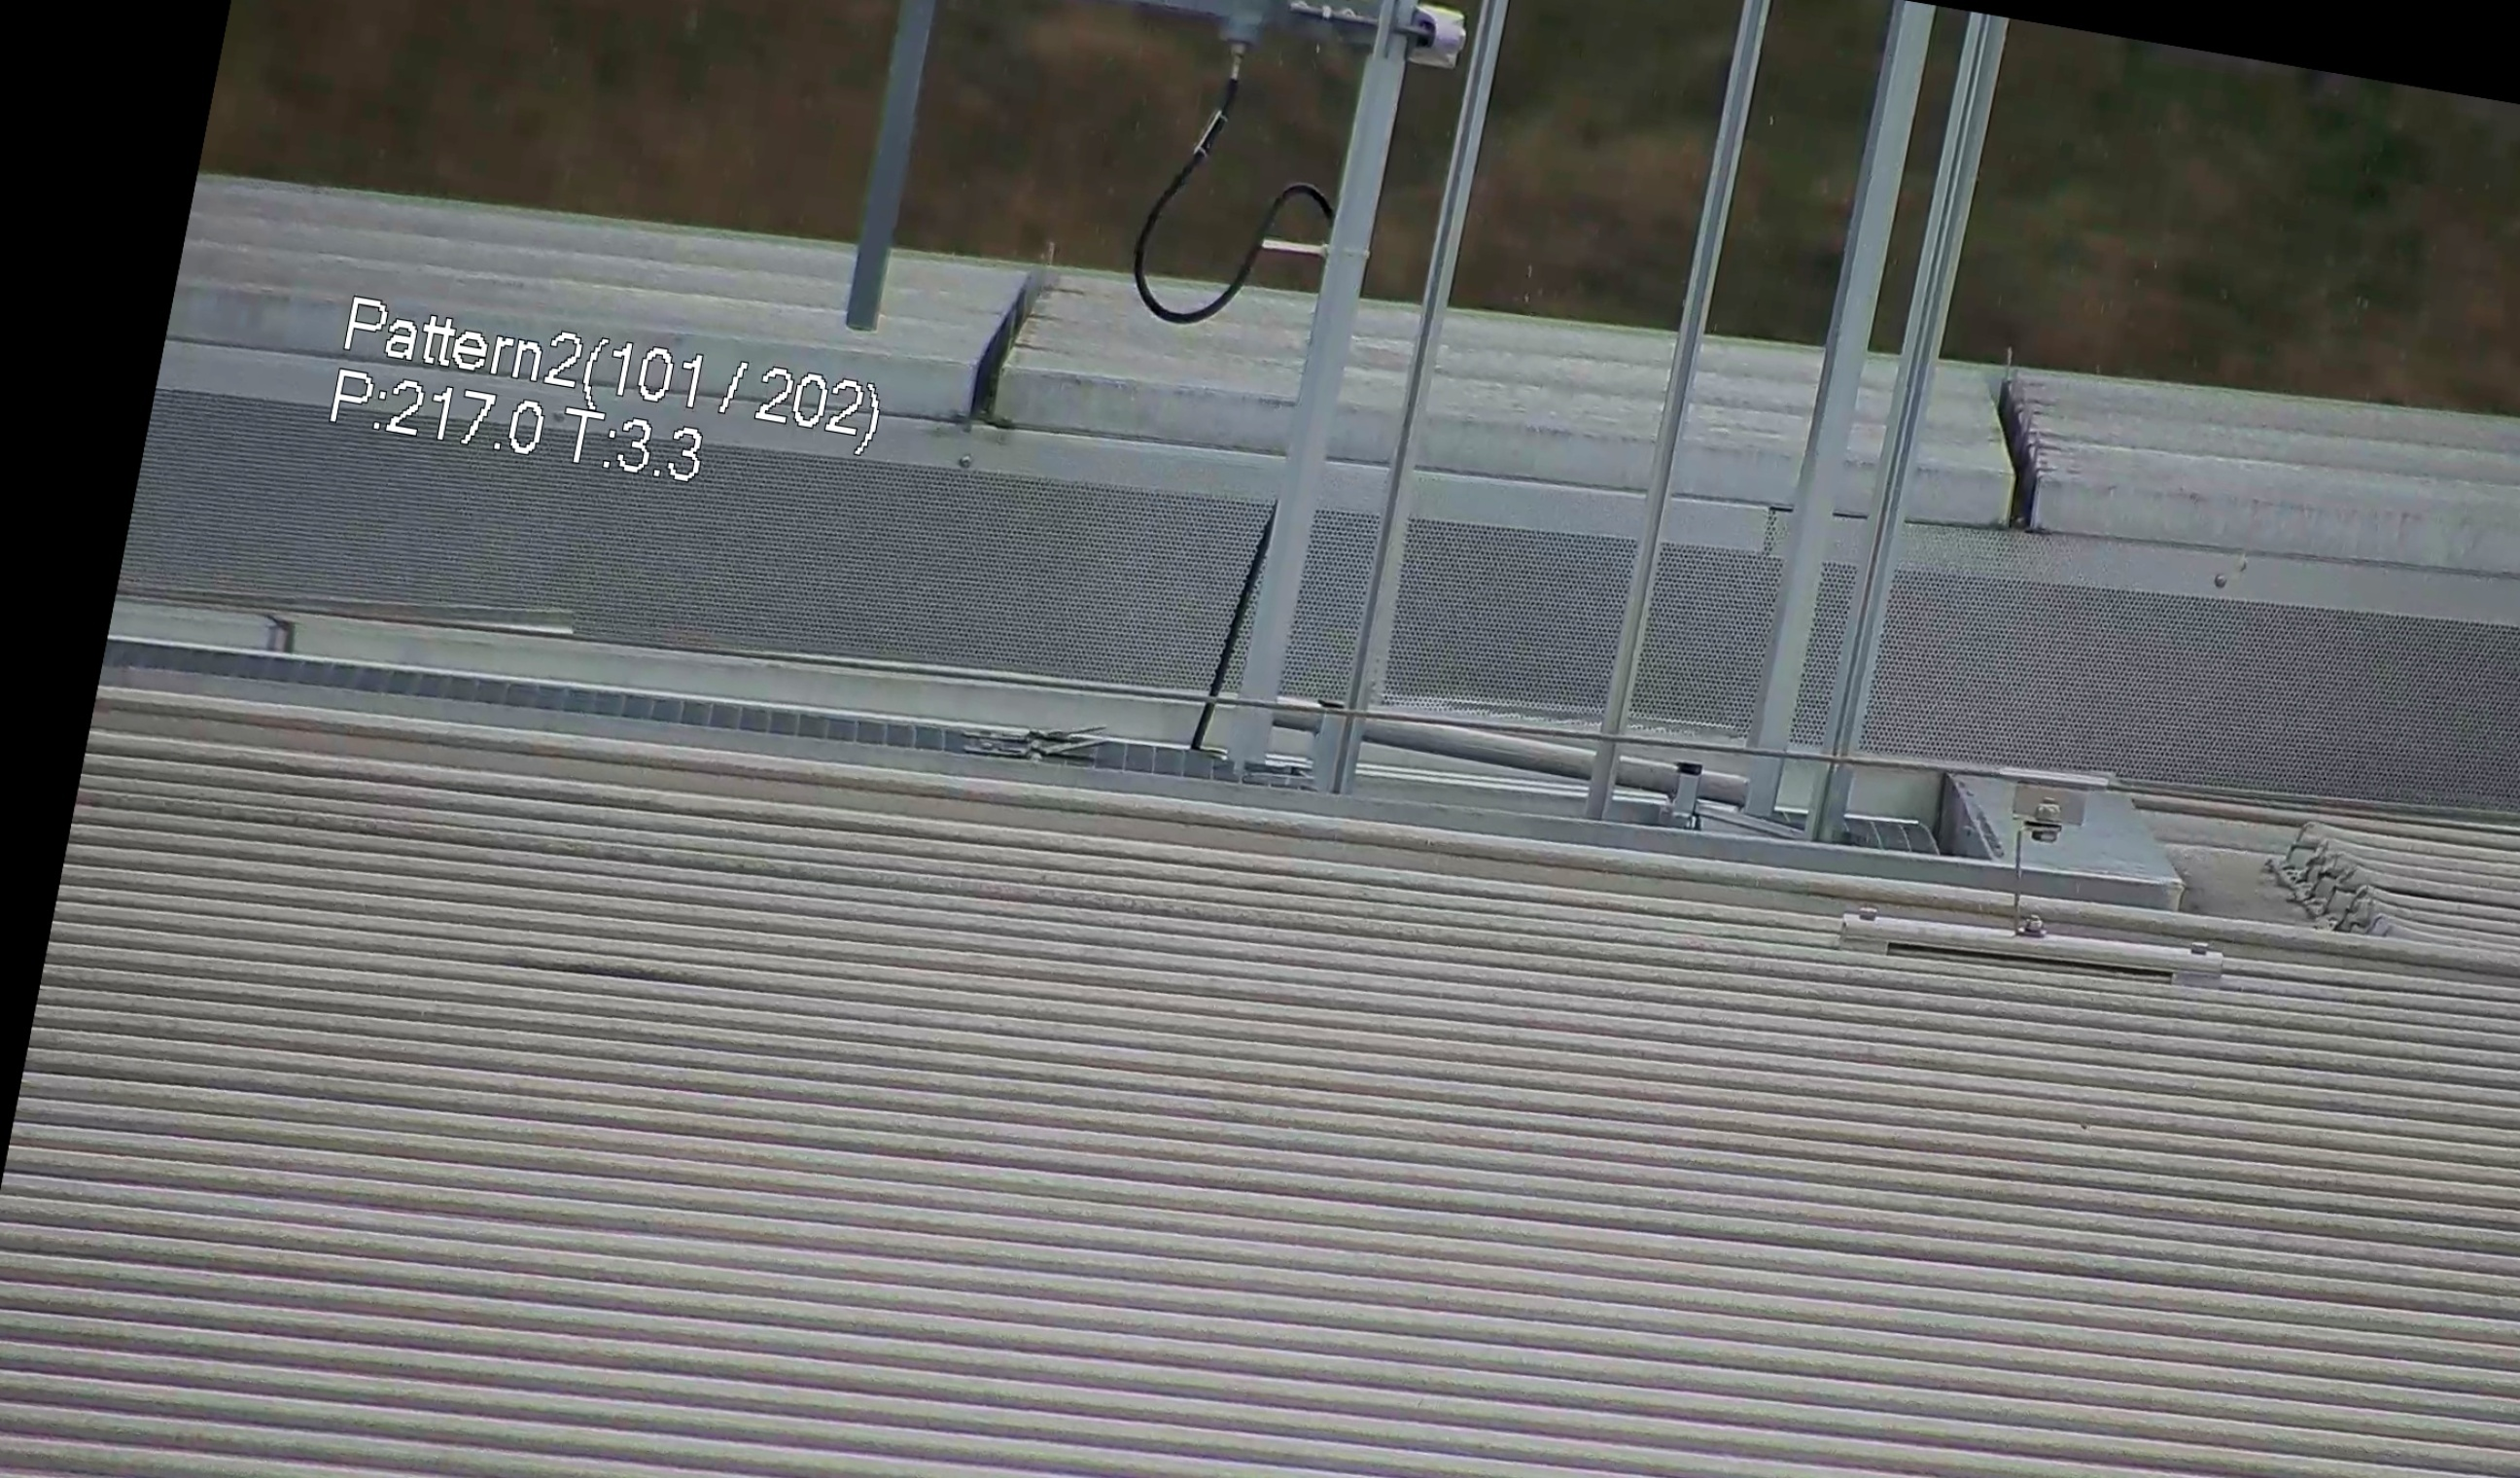Other: (1947, 331, 2098, 544)
